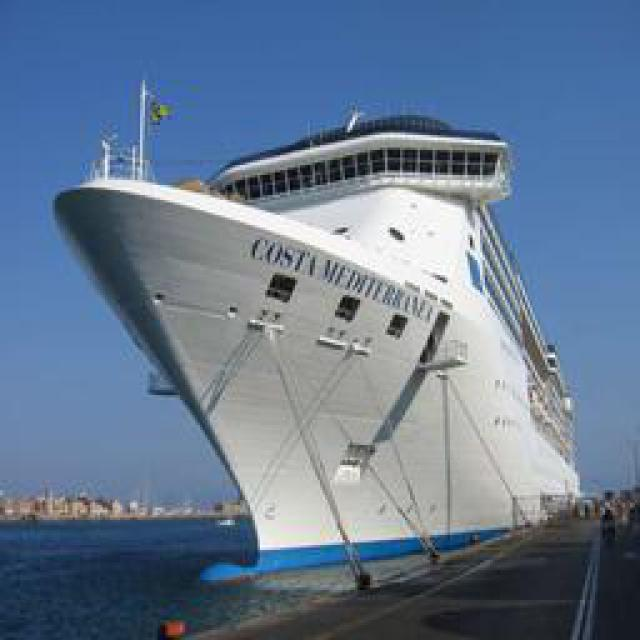Ship: (37, 55, 595, 595)
